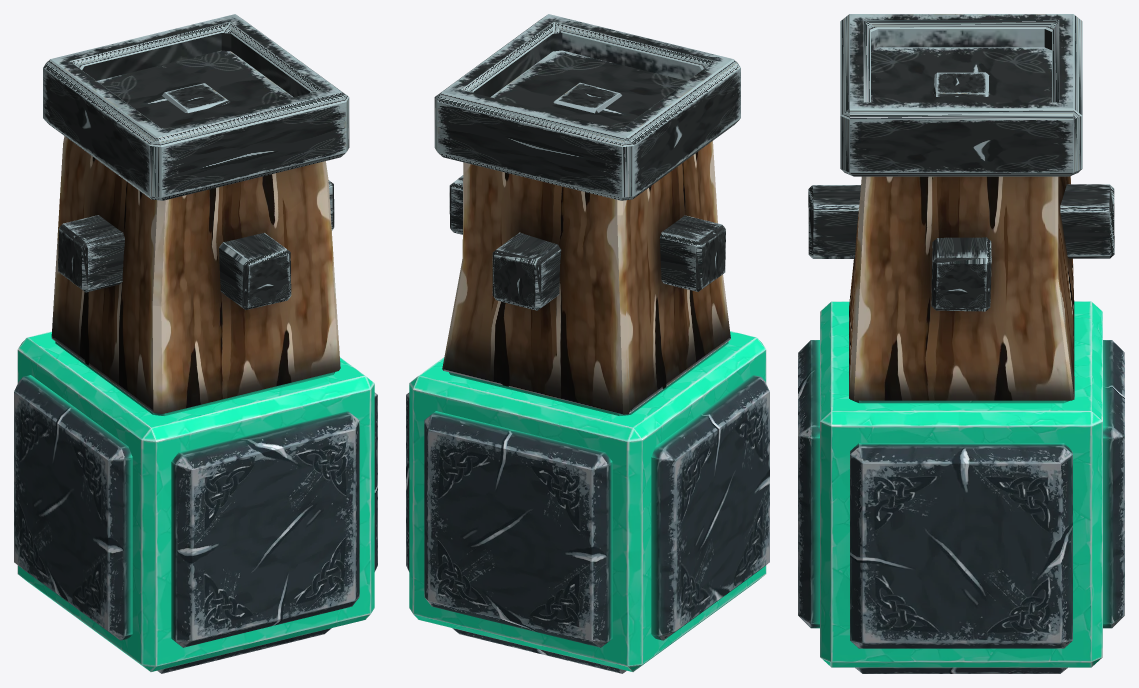
The model's file is step_002.glb.
3 renders of one model, left to right at view 1: azimuth 30°, elevation 25°; view 2: azimuth 150°, elevation 25°; view 3: azimuth 270°, elevation 25°, orthographic. The views are drawn at different scales.
Parts seen in each view (by area): view 1: SingleWoodenBlock_c4f265ad-6399-45ad-a71c-d23891248bc4, StartingBlock_54787111-893b-4fae-81f2-2bd6027e068a; view 2: SingleWoodenBlock_c4f265ad-6399-45ad-a71c-d23891248bc4, StartingBlock_54787111-893b-4fae-81f2-2bd6027e068a; view 3: SingleWoodenBlock_c4f265ad-6399-45ad-a71c-d23891248bc4, StartingBlock_54787111-893b-4fae-81f2-2bd6027e068a.
Boxes of the visible parts, x1,y1,x2,y2 form: SingleWoodenBlock_c4f265ad-6399-45ad-a71c-d23891248bc4: (43, 14, 349, 413); StartingBlock_54787111-893b-4fae-81f2-2bd6027e068a: (14, 331, 377, 673); SingleWoodenBlock_c4f265ad-6399-45ad-a71c-d23891248bc4: (434, 14, 740, 414); StartingBlock_54787111-893b-4fae-81f2-2bd6027e068a: (406, 331, 769, 673); SingleWoodenBlock_c4f265ad-6399-45ad-a71c-d23891248bc4: (808, 14, 1114, 400); StartingBlock_54787111-893b-4fae-81f2-2bd6027e068a: (798, 301, 1124, 673).
Size of the model in its own units: 1.13 by 2.17 by 1.13.
2 materials, 2 textured.
